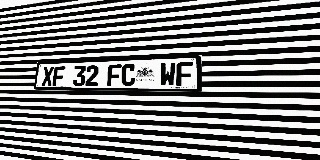plate: (34, 55, 202, 91)
